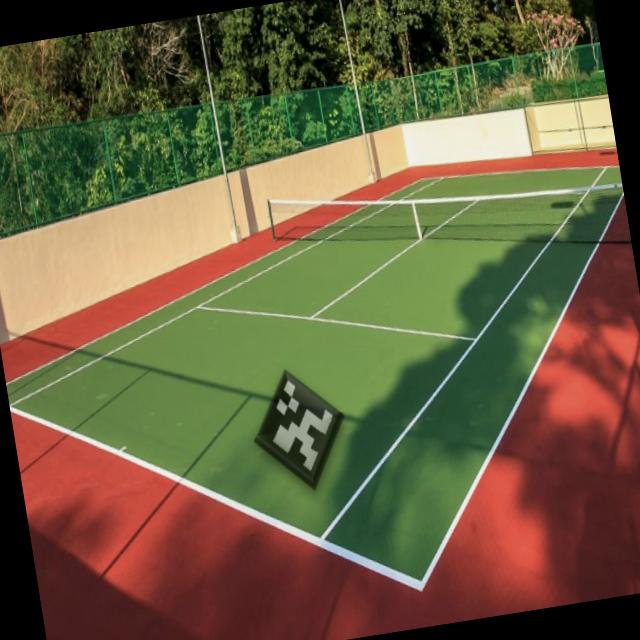marker: (237, 352, 360, 503)
